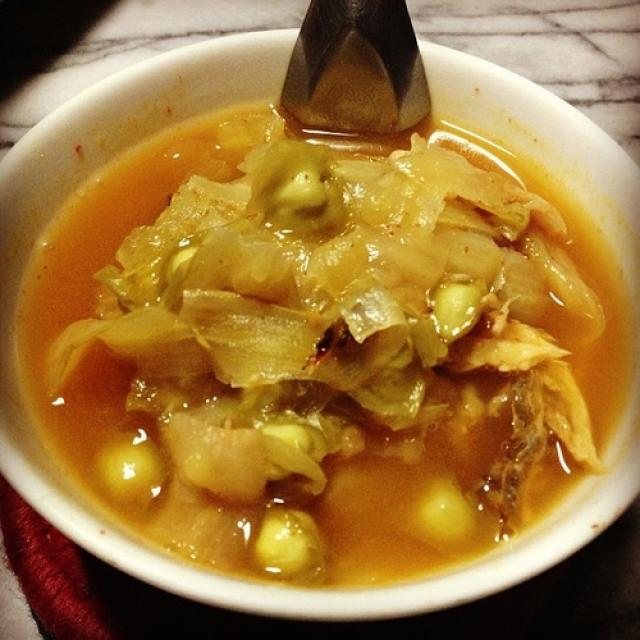汤锅炖物: (13, 32, 635, 618)
